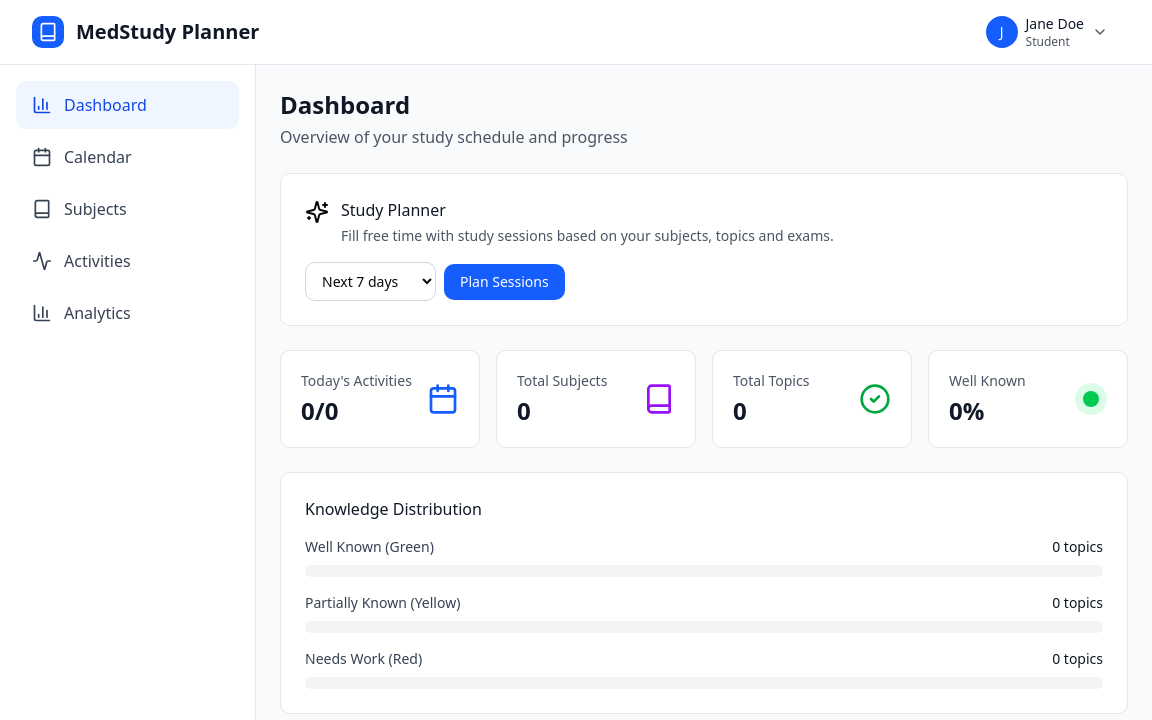
Test: SubjectsView › shows the empty state without subjects
This screenshot has width=1152, height=720.
expect the heading "Dashboard" is shown: met, box [280, 88, 410, 121]
Click the button "Subjects". click: (128, 209)
box: [16, 185, 239, 233]
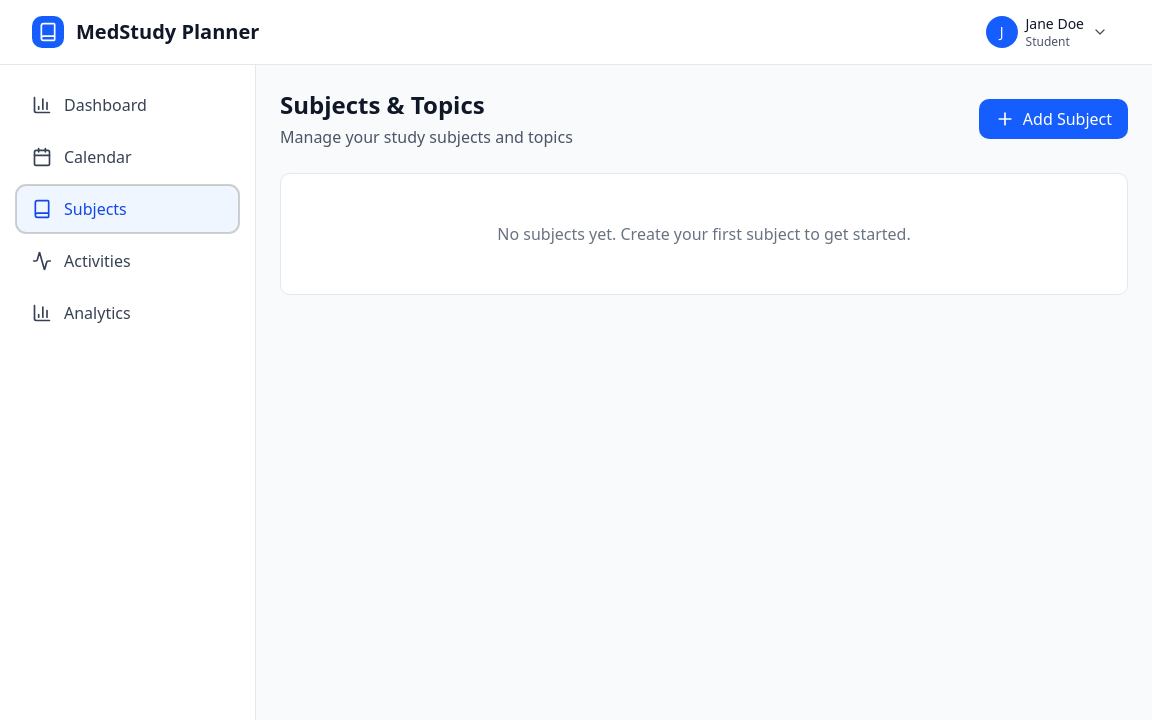
expect the text "No subjects yet. Create your first subject to get started." is shown: met, box [497, 223, 911, 245]
